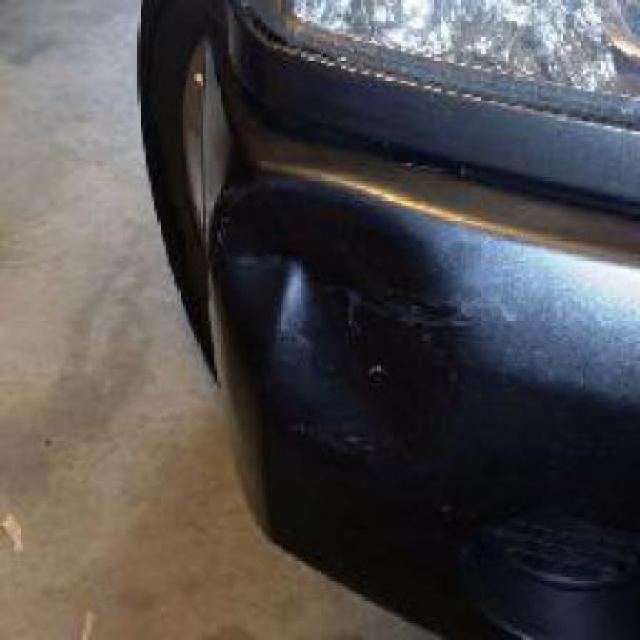dent-or-scratch: (216, 178, 457, 434)
